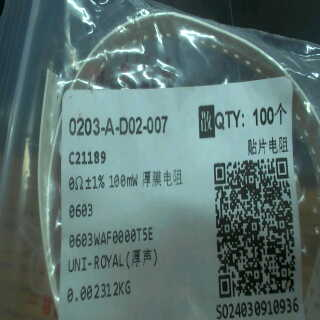0R: (64, 170, 107, 223)
